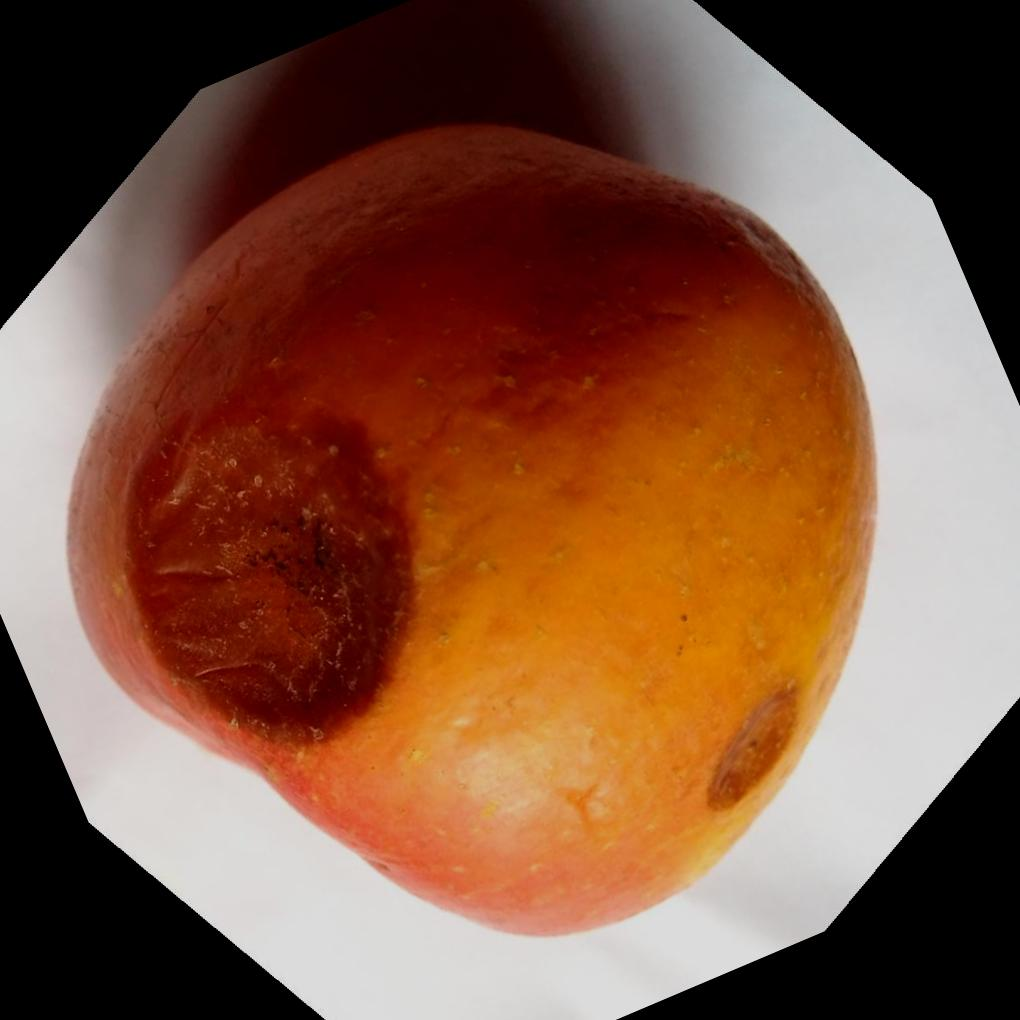FreshOrange: (65, 118, 883, 938)
